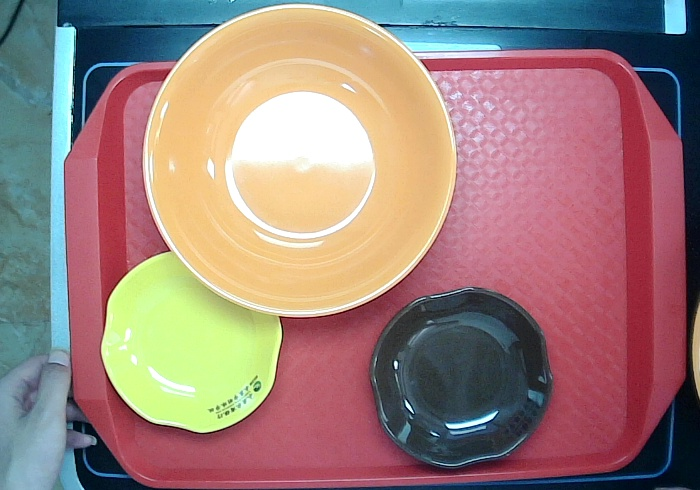YKMZ-Huang_Se_Ao_Bian_Wan: (101, 251, 287, 431)
YKMZ-Ju_Se_Tang_Wan: (137, 4, 457, 321)
YKMZ-Ka_Fei_Ao_Bian_Wan: (368, 283, 555, 471)
